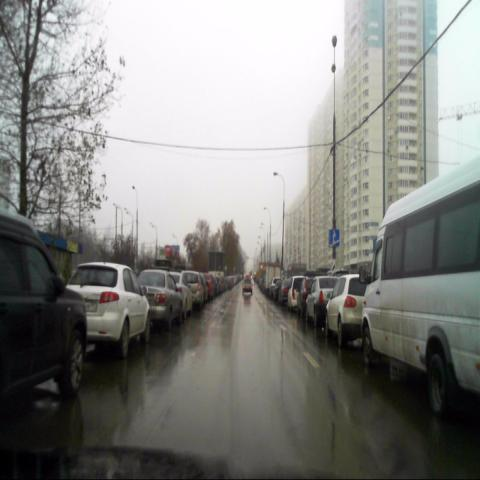6_6: (329, 228, 339, 246)
